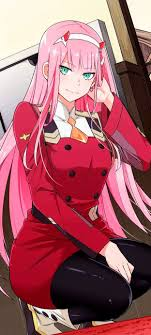zeroTwo: (35, 19, 107, 100)
